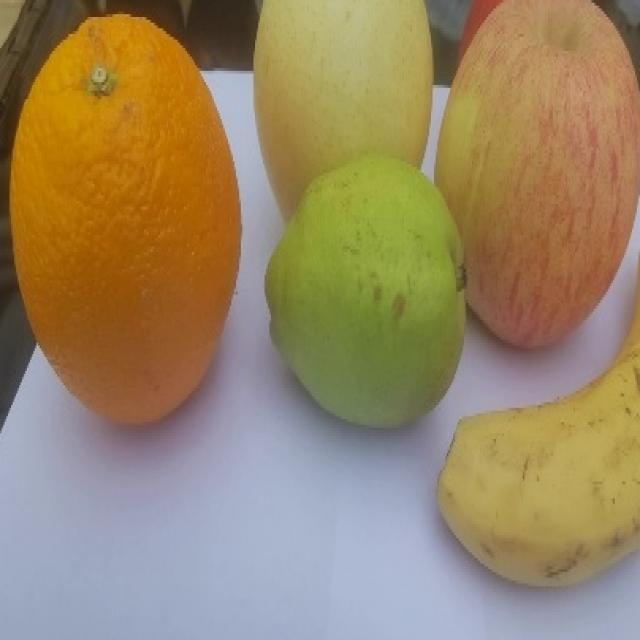Apple: (433, 0, 639, 349)
Banana: (436, 256, 639, 588)
Orange: (8, 12, 242, 426)
